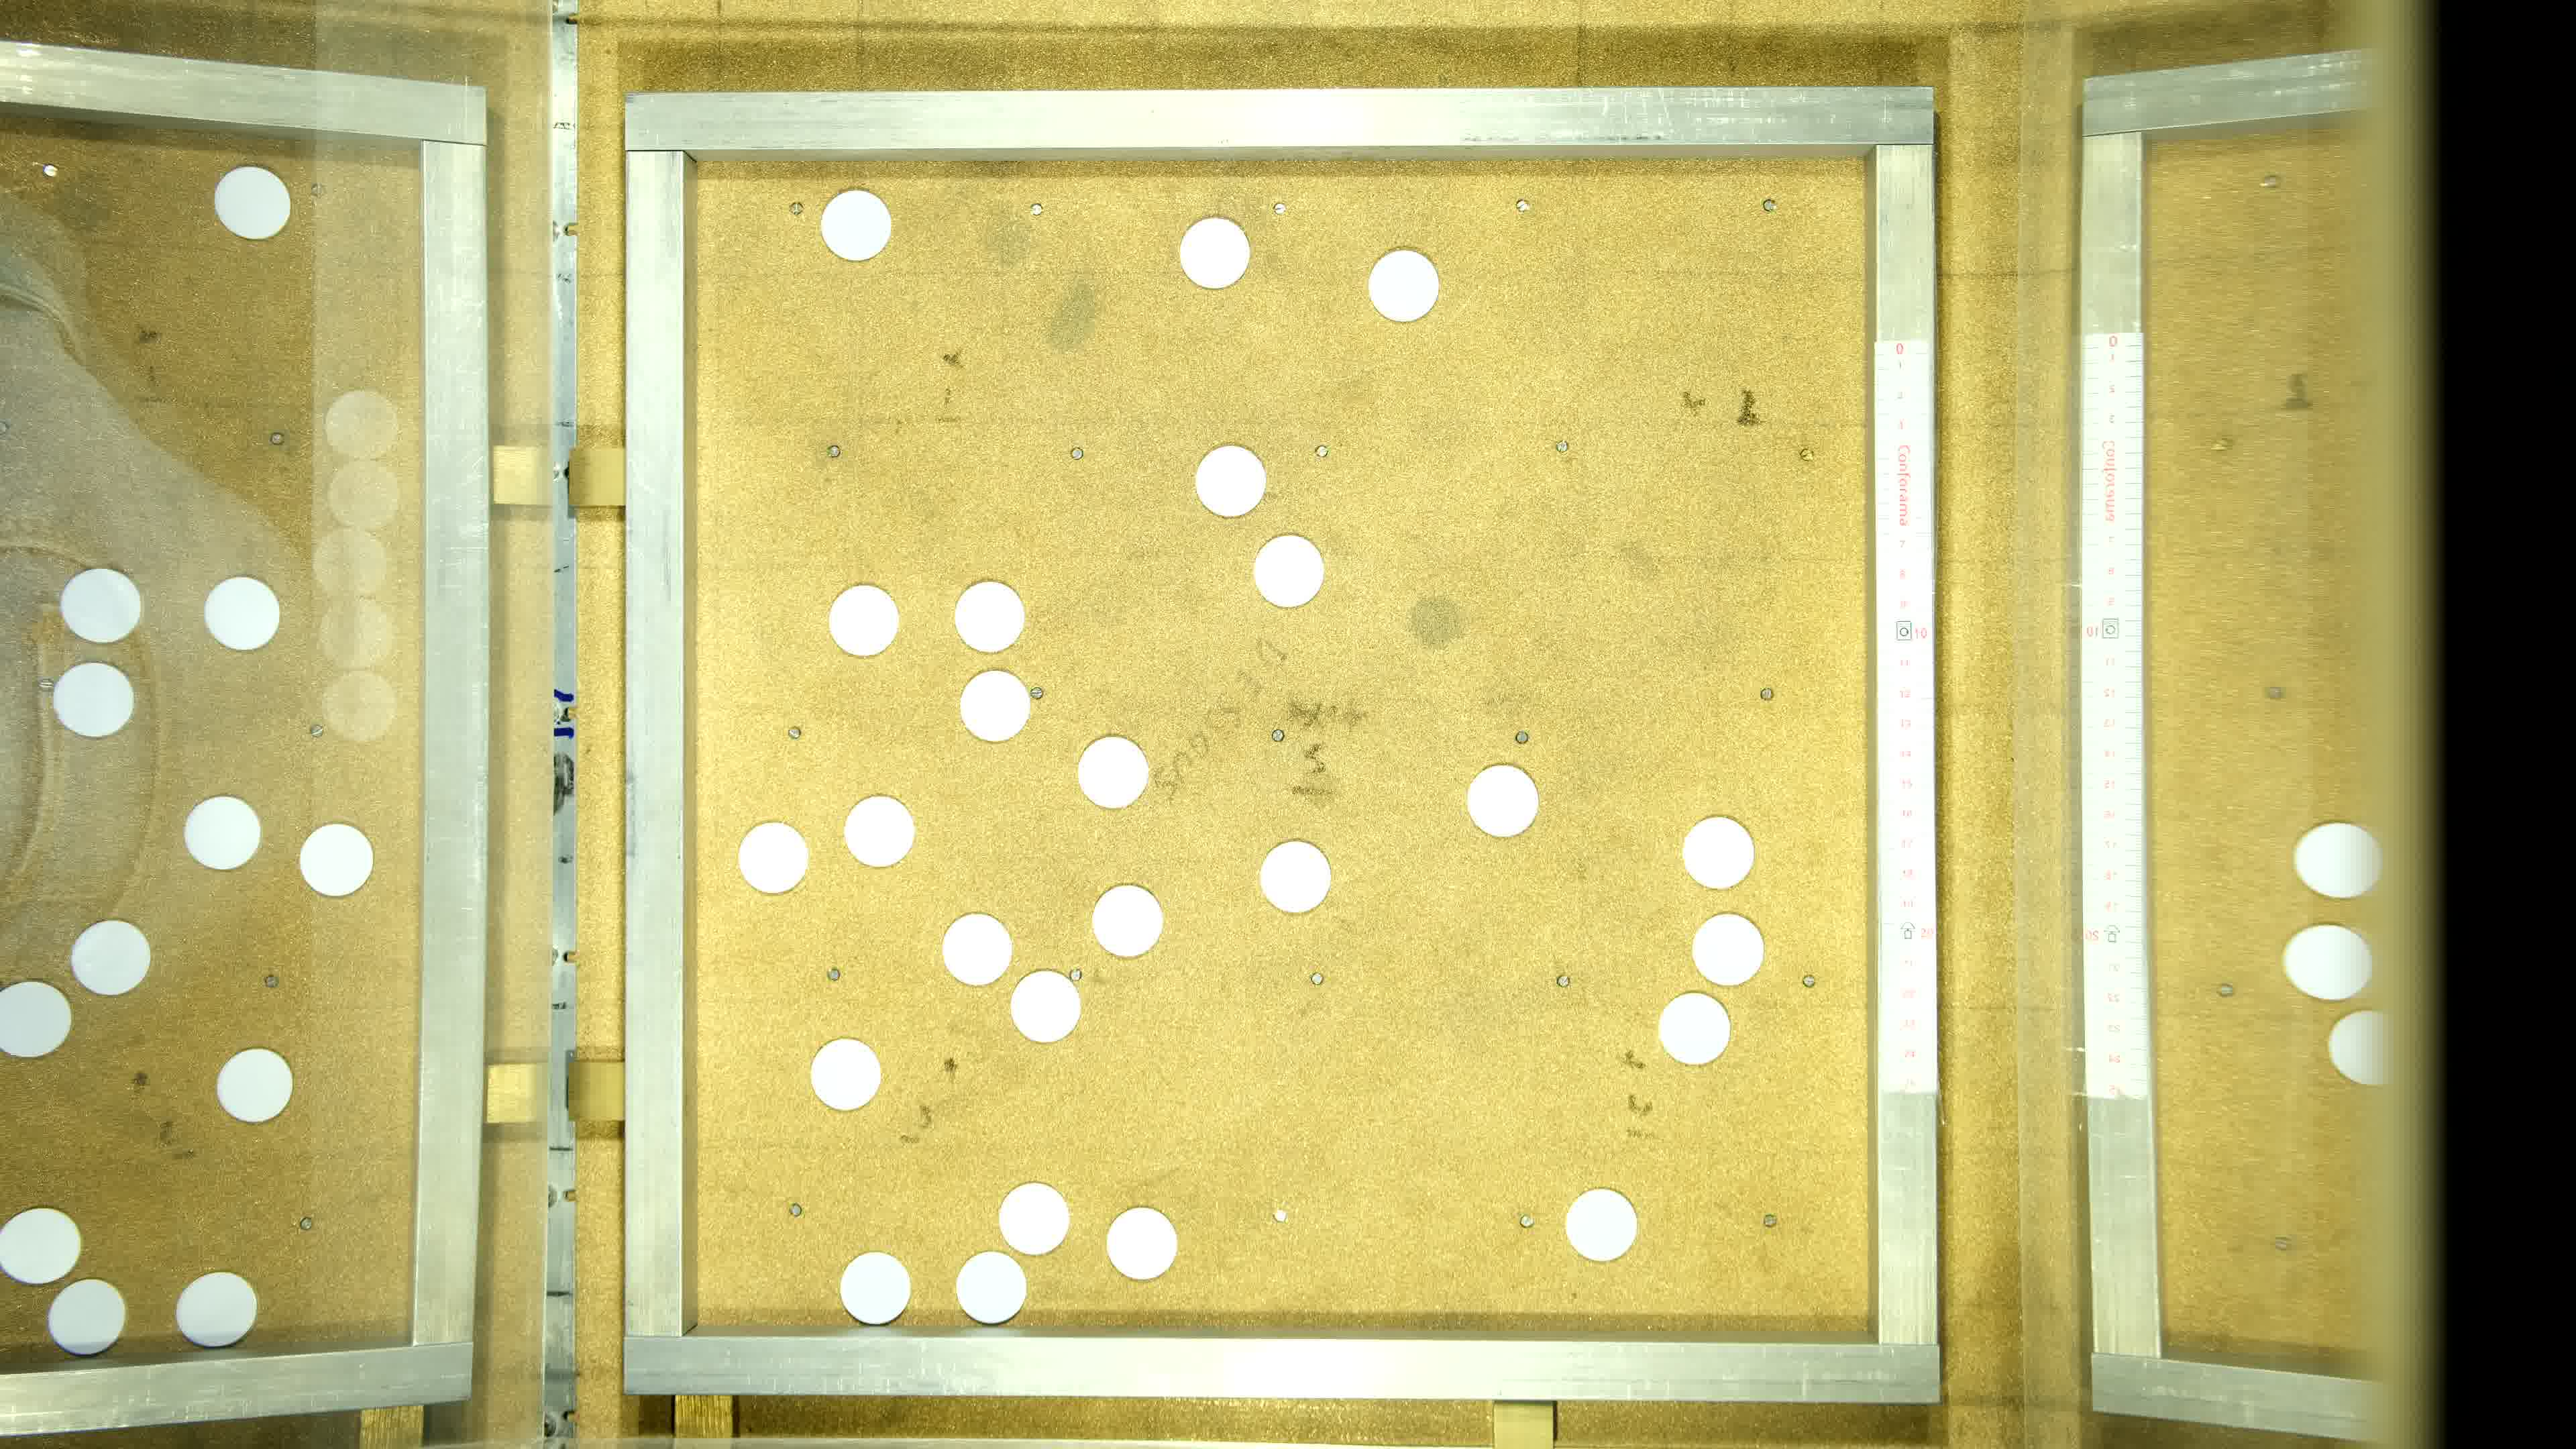pallet: (736, 821, 810, 895), (1253, 533, 1327, 607), (819, 188, 893, 262), (941, 911, 1016, 985), (1076, 732, 1150, 807), (1562, 1187, 1637, 1261), (1691, 911, 1766, 985), (954, 1251, 1028, 1325), (954, 579, 1026, 653), (1258, 840, 1330, 915), (959, 669, 1033, 741), (1194, 442, 1267, 517), (826, 582, 899, 656), (1366, 249, 1438, 324), (1090, 883, 1162, 957), (1008, 970, 1081, 1044), (810, 1037, 883, 1111), (1104, 1205, 1177, 1279), (1683, 814, 1755, 888), (840, 1251, 913, 1325), (998, 1182, 1072, 1254), (1468, 763, 1541, 837), (844, 794, 916, 869), (1180, 216, 1253, 288), (1658, 993, 1730, 1065)
